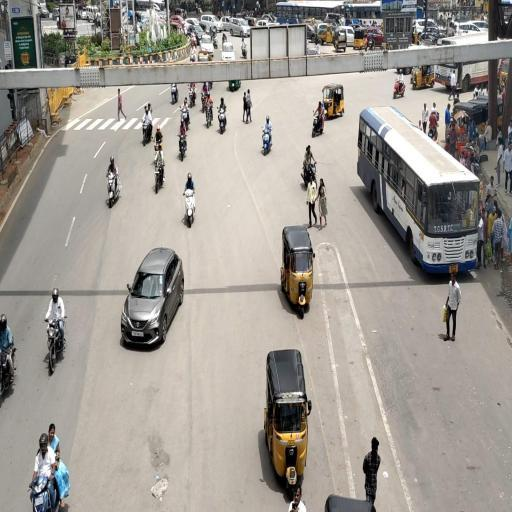helmet: (23, 422, 91, 510), (26, 272, 78, 366), (99, 146, 141, 229), (177, 164, 218, 223), (256, 101, 291, 157), (142, 102, 152, 120)
